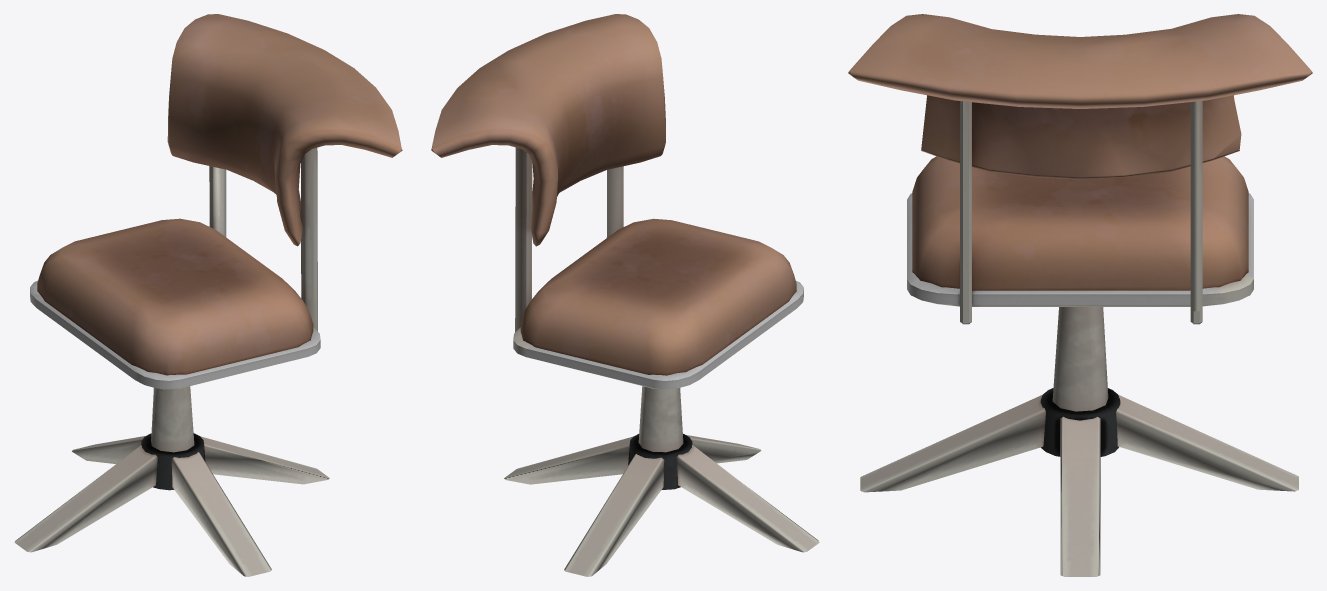
Rendered from Office_chair.fbx.
3 renders of one model, left to right at view 1: azimuth 30°, elevation 25°; view 2: azimuth 150°, elevation 25°; view 3: azimuth 270°, elevation 25°, orthographic. The views are drawn at different scales.
Visible parts, largest first — view 1: Office_chair; view 2: Office_chair; view 3: Office_chair.
Boxes of the visible parts, left/top/right/bottom form: Office_chair: left=14, top=14, right=402, bottom=576; Office_chair: left=431, top=14, right=819, bottom=576; Office_chair: left=848, top=14, right=1312, bottom=576.
Bounding box in the file's own units: 83.38 × 98.72 × 79.69.
1 material, 1 textured.
